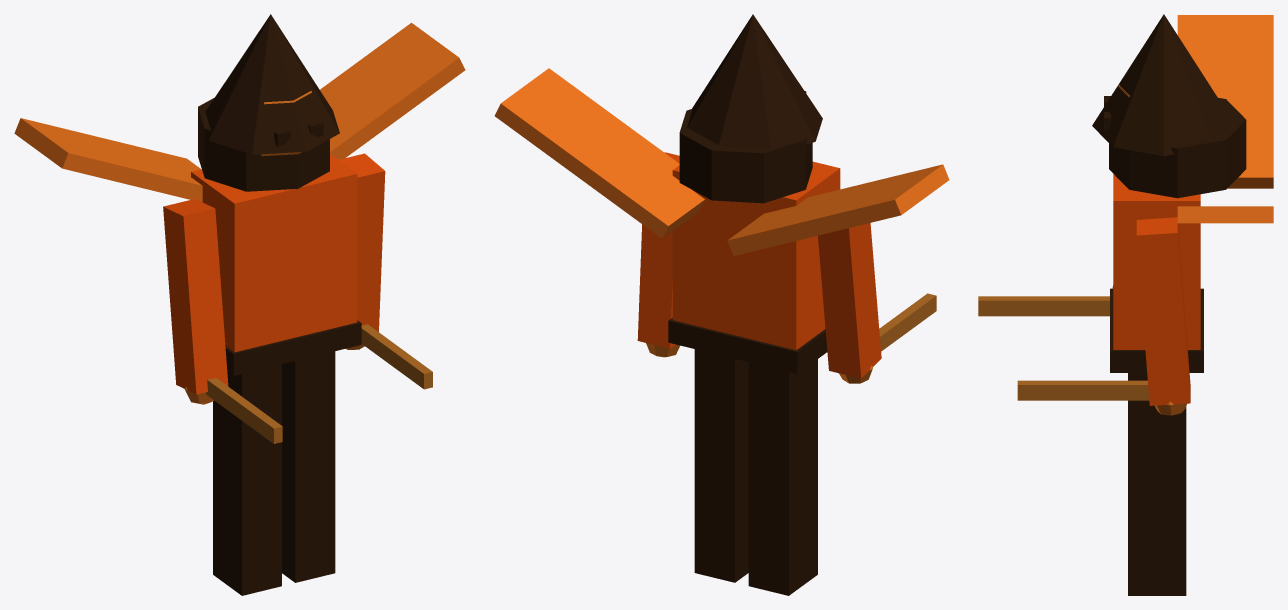
File: SM_Champion_9028_Raa.glb
3 renders of one model, left to right at view 1: azimuth 30°, elevation 25°; view 2: azimuth 150°, elevation 25°; view 3: azimuth 270°, elevation 25°, orthographic.
Parts seen in each view (by area): view 1: SM_Champion_9028_Raa; view 2: SM_Champion_9028_Raa; view 3: SM_Champion_9028_Raa.
Part boxes in pixels (x1,y1,x2,y2): SM_Champion_9028_Raa: [14, 14, 465, 595]; SM_Champion_9028_Raa: [494, 14, 949, 595]; SM_Champion_9028_Raa: [978, 14, 1273, 595].
Bounding box in the file's own units: 1.53 × 2.02 × 0.9649.
